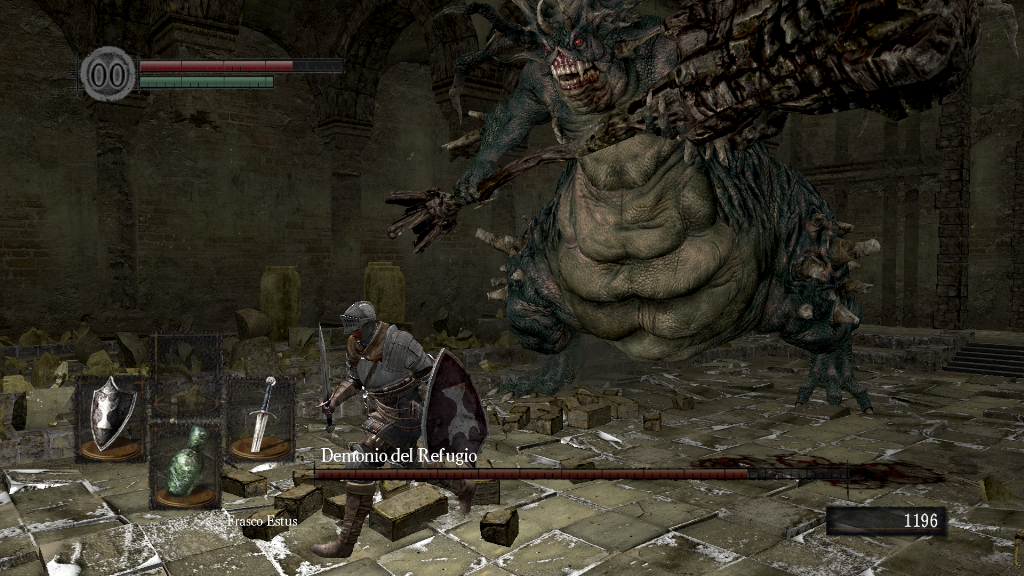asylumDemon: (380, 2, 980, 421)
bossHP: (314, 469, 847, 479)
health: (138, 58, 343, 71)
humanity: (80, 45, 136, 102)
player: (314, 298, 489, 556)
souls: (825, 506, 945, 536)
stamina: (138, 74, 274, 88)
